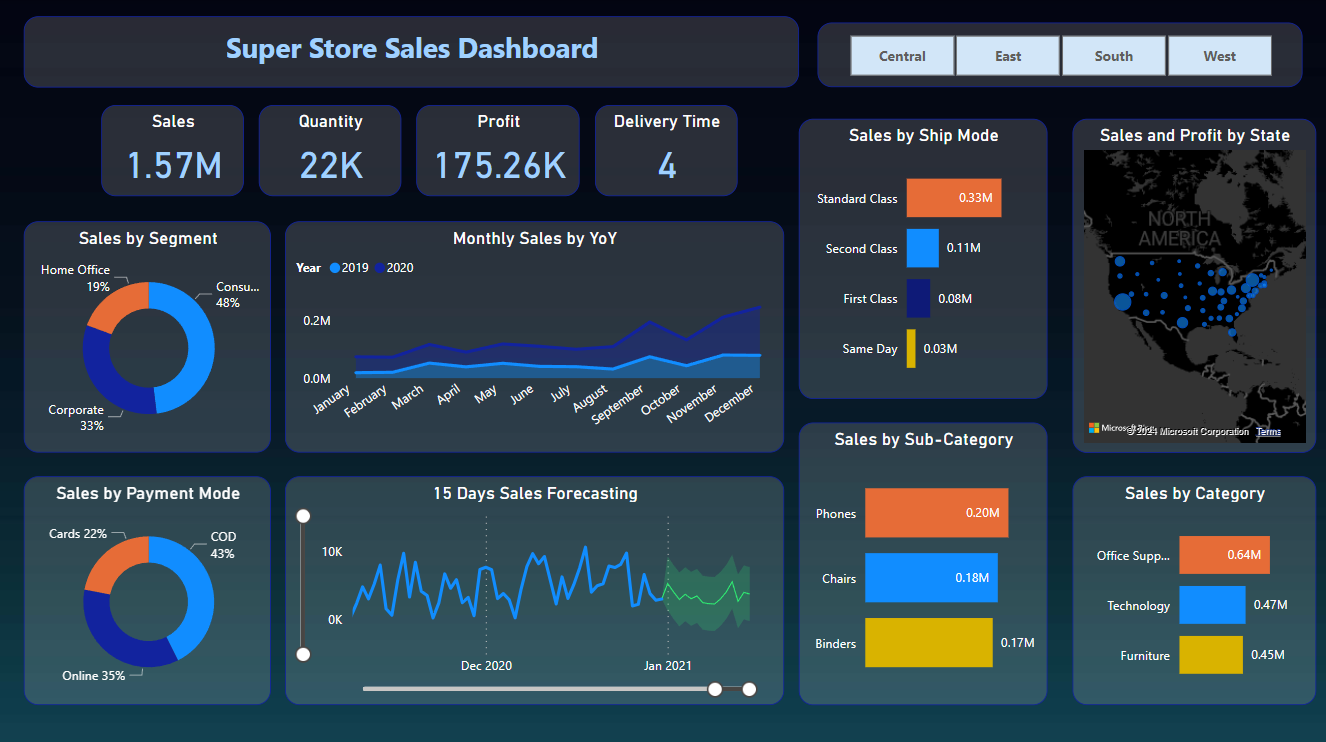

What the dashboard file says about the page in this screenshot:
{"tool":"powerbi","page":{"name":"Page 1","canvas":[1280,720],"ordinal":0},"visuals":[{"type":"clusteredBarChart","title":"Sales by Category","fields":{"Category":["SuperStore_Sales_Dataset.Category"],"Y":["Sum(SuperStore_Sales_Dataset.Sales)"]},"box":[1034.8,459.5,235.2,220.7],"z":0},{"type":"clusteredBarChart","title":"Sales by Sub-Category","fields":{"Y":["Sum(SuperStore_Sales_Dataset.Sales)"],"Category":["SuperStore_Sales_Dataset.Sub-Category"]},"box":[770.7,407.6,240,272.6],"z":1},{"type":"clusteredBarChart","title":"Sales by Ship Mode","fields":{"Y":["Sum(SuperStore_Sales_Dataset.Sales)"],"Category":["SuperStore_Sales_Dataset.Ship Mode"]},"box":[770.7,114.6,240,270.2],"z":2},{"type":"stackedAreaChart","title":"Monthly Sales by YoY","fields":{"Y":["Sum(SuperStore_Sales_Dataset.Sales)"],"Category":["SuperStore_Sales_Dataset.Order Date.Variation.Date Hierarchy.Month","SuperStore_Sales_Dataset.Order Date.Variation.Date Hierarchy.Day"],"Series":["SuperStore_Sales_Dataset.Order Date.Variation.Date Hierarchy.Year"]},"box":[275,213.5,481.2,223.1],"z":3},{"type":"lineChart","title":"15 Days Sales Forecasting","fields":{"Category":["SuperStore_Sales_Dataset.Order Date"],"Y":["Sum(SuperStore_Sales_Dataset.Sales)"]},"box":[275,459.5,481.2,220.7],"z":4},{"type":"map","title":"Sales and Profit by State","fields":{"Category":["SuperStore_Sales_Dataset.State"],"Size":["Sum(SuperStore_Sales_Dataset.Sales)"]},"box":[1034.8,114.6,235.2,322],"z":5},{"type":"donutChart","title":"Sales by Segment","fields":{"Category":["SuperStore_Sales_Dataset.Segment"],"Y":["Sum(SuperStore_Sales_Dataset.Sales)"]},"box":[22.9,213.5,238.8,223.1],"z":6},{"type":"donutChart","title":"Sales by Payment Mode","fields":{"Y":["Sum(SuperStore_Sales_Dataset.Sales)"],"Category":["SuperStore_Sales_Dataset.Payment Mode"]},"box":[22.9,459.5,238.8,220.7],"z":7},{"type":"slicer","fields":{"Values":["SuperStore_Sales_Dataset.Region"]},"box":[788.7,21.7,467.9,62.7],"z":8},{"type":"textbox","box":[22.9,15.7,747.7,68.7],"z":9},{"type":"card","title":"Sales","fields":{"Values":["Sum(SuperStore_Sales_Dataset.Sales)"]},"box":[97.9,101.5,137.5,88],"z":10},{"type":"card","title":"Quantity","fields":{"Values":["Sum(SuperStore_Sales_Dataset.Quantity)"]},"box":[249.9,101.5,137.5,88],"z":11},{"type":"card","title":"Profit","fields":{"Values":["Sum(SuperStore_Sales_Dataset.Profit)"]},"box":[401.8,101.5,158,88],"z":12},{"type":"card","title":"Delivery Time","fields":{"Values":["Avg(SuperStore_Sales_Dataset.AvgDelivery)"]},"box":[574.3,101.5,137.5,88],"z":13}]}

Visuals, with their boxes in screenshot pixels (x1, y1, x2, y2), scaled from the page's 1280x720 canvas onto the 1326x742 screenshot:
"Sales by Category" clusteredBarChart: x1=1072, y1=474, x2=1316, y2=701
"Sales by Sub-Category" clusteredBarChart: x1=798, y1=420, x2=1047, y2=701
"Sales by Ship Mode" clusteredBarChart: x1=798, y1=118, x2=1047, y2=397
"Monthly Sales by YoY" stackedAreaChart: x1=285, y1=220, x2=783, y2=450
"15 Days Sales Forecasting" lineChart: x1=285, y1=474, x2=783, y2=701
"Sales and Profit by State" map: x1=1072, y1=118, x2=1316, y2=450
"Sales by Segment" donutChart: x1=24, y1=220, x2=271, y2=450
"Sales by Payment Mode" donutChart: x1=24, y1=474, x2=271, y2=701
slicer - SuperStore_Sales_Dataset.Region: x1=817, y1=22, x2=1302, y2=87
textbox: x1=24, y1=16, x2=798, y2=87
"Sales" card: x1=101, y1=105, x2=244, y2=195
"Quantity" card: x1=259, y1=105, x2=401, y2=195
"Profit" card: x1=416, y1=105, x2=580, y2=195
"Delivery Time" card: x1=595, y1=105, x2=737, y2=195
